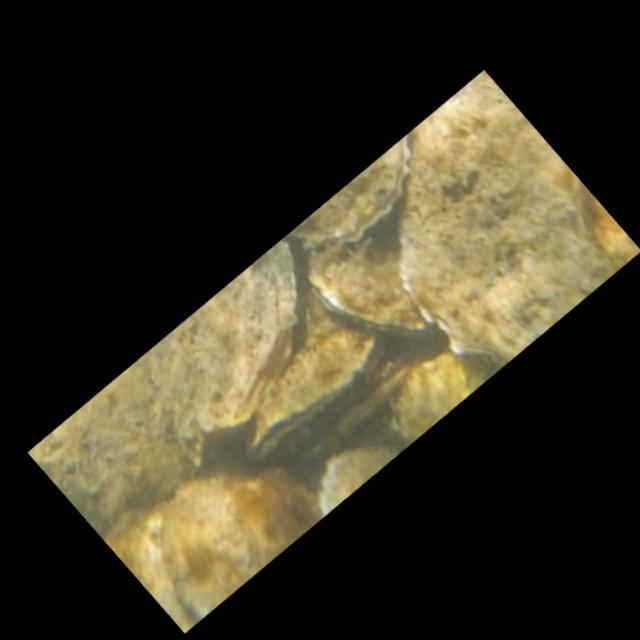Oyster-Closed: (397, 70, 614, 359), (244, 251, 381, 461), (305, 199, 440, 340), (290, 135, 412, 245), (316, 447, 394, 518)
Oyster-Indeterminate: (151, 235, 298, 466), (27, 345, 197, 537), (161, 469, 319, 624), (98, 497, 194, 631), (390, 350, 496, 435), (585, 188, 639, 267)
